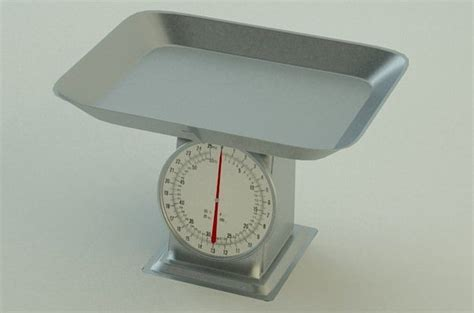Industrial Scale: (51, 7, 411, 304)
